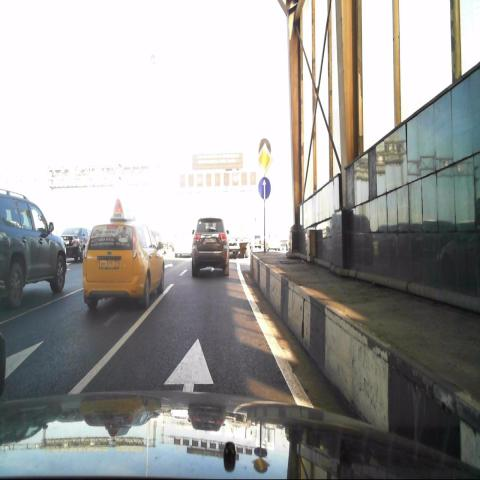2_1: (257, 143, 273, 173)
4_1_1: (257, 176, 271, 200)
